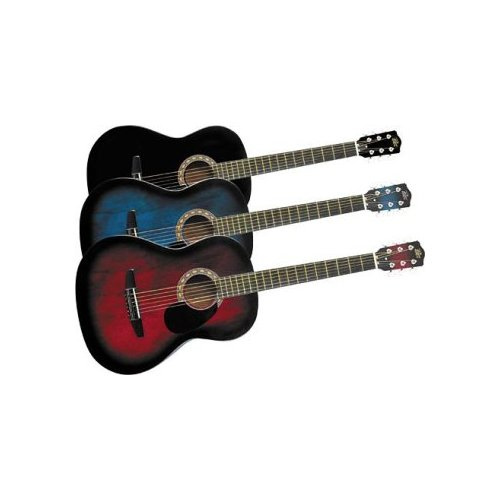guitar: (75, 235, 428, 377), (79, 176, 413, 262), (83, 126, 402, 192)
